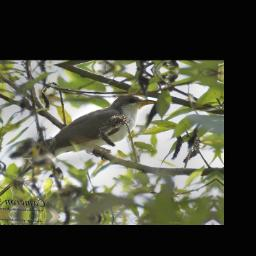Cuckoo: (0, 88, 159, 208)
